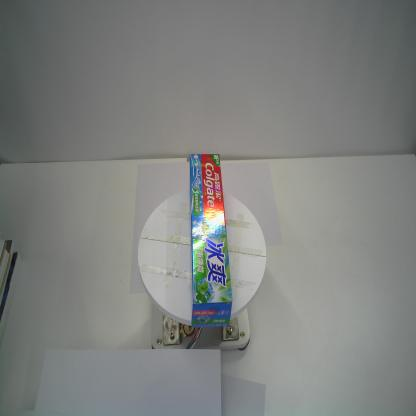Personal Hygiene: (188, 153, 233, 328)
